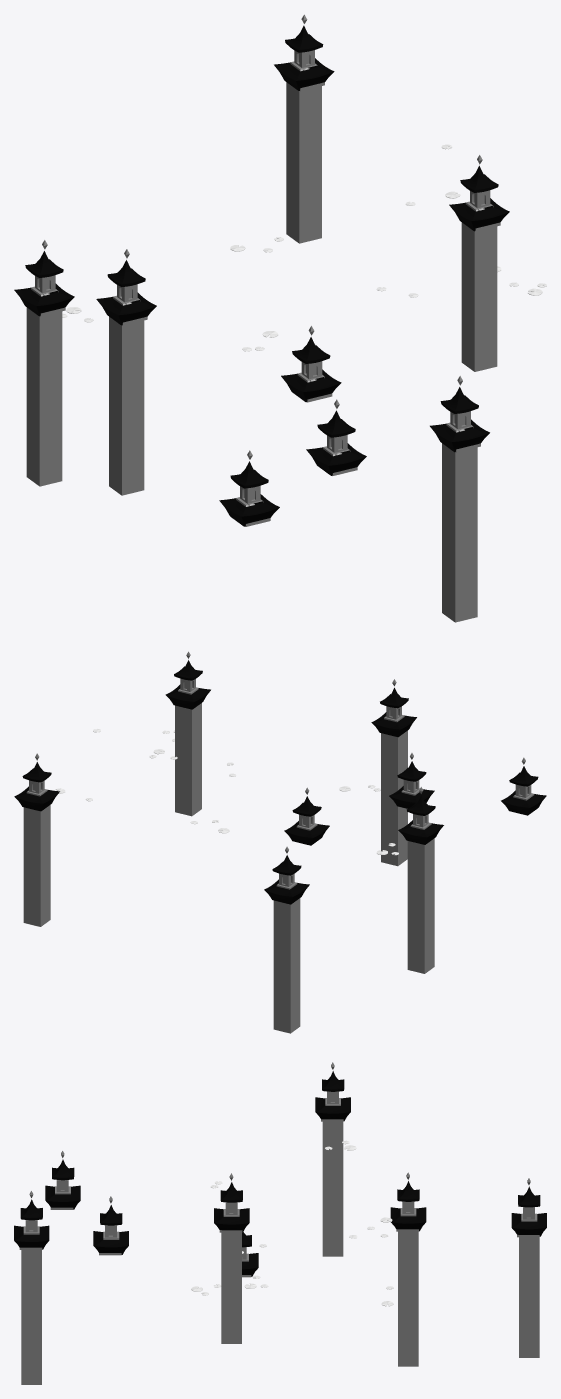
The model's file is Phase 3 BG Art.fbx.
The picture shows the model from 3 angles, top to bottom: view 1: azimuth 30°, elevation 25°; view 2: azimuth 150°, elevation 25°; view 3: azimuth 270°, elevation 25°; orthographic projection. The views are drawn at different scales.
Parts seen in each view (by area): view 1: Rooftop_Rescue_Flag.001 (3) (×5), Rooftop_Rescue_Flag.001 (2) (×5), Rooftop_Rescue_Flag.001 (4) (×2), Rooftop_Rescue_Flag.001 (1); view 2: Rooftop_Rescue_Flag.001 (3) (×5), Rooftop_Rescue_Flag.001 (2) (×5), Rooftop_Rescue_Flag.001 (4) (×2), Rooftop_Rescue_Flag.001 (1); view 3: Rooftop_Rescue_Flag.001 (3) (×5), Rooftop_Rescue_Flag.001 (2) (×5), Rooftop_Rescue_Flag.001 (4) (×2), Rooftop_Rescue_Flag.001 (1).
Part boxes in pixels (<box>): Rooftop_Rescue_Flag.001 (3) (×5): <box>26,222,497,622</box>; Rooftop_Rescue_Flag.001 (2) (×5): <box>14,155,509,526</box>; Rooftop_Rescue_Flag.001 (4) (×2): <box>281,82,341,402</box>; Rooftop_Rescue_Flag.001 (1): <box>274,14,334,91</box>; Rooftop_Rescue_Flag.001 (3) (×5): <box>175,703,434,1033</box>; Rooftop_Rescue_Flag.001 (2) (×5): <box>165,651,546,904</box>; Rooftop_Rescue_Flag.001 (4) (×2): <box>23,787,329,926</box>; Rooftop_Rescue_Flag.001 (1): <box>14,753,59,811</box>; Rooftop_Rescue_Flag.001 (3) (×5): <box>21,1121,418,1384</box>; Rooftop_Rescue_Flag.001 (2) (×5): <box>14,1062,426,1249</box>; Rooftop_Rescue_Flag.001 (4) (×2): <box>242,1232,539,1357</box>; Rooftop_Rescue_Flag.001 (1): <box>511,1178,546,1237</box>.
Size of the model in its own units: 41.56 by 30.22 by 51.64.
3 materials, 1 textured.
